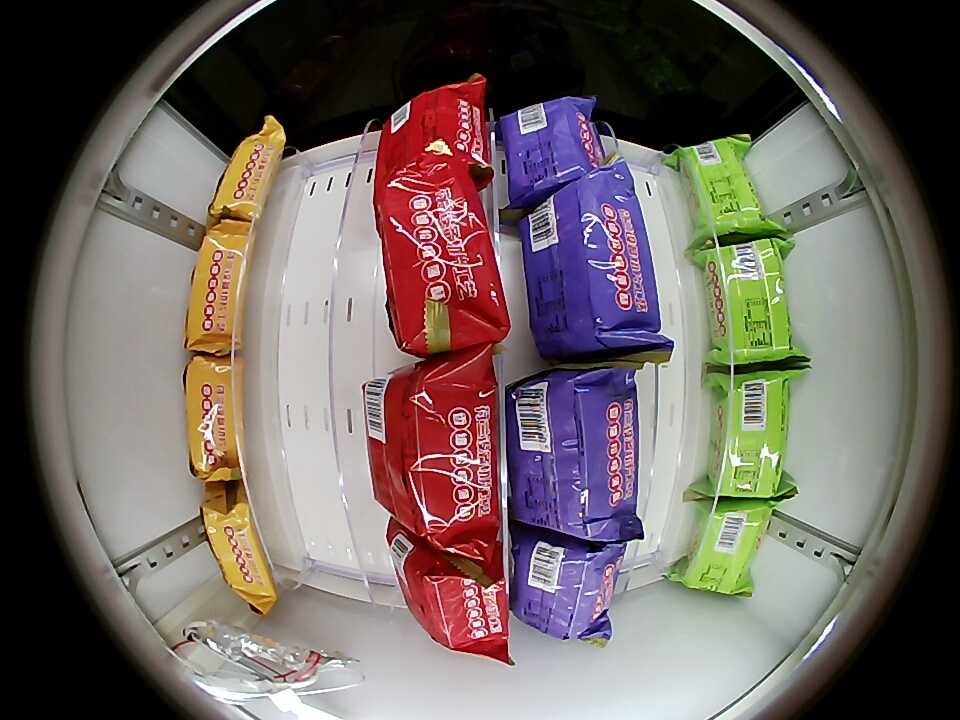kaomo_gali: (184, 224, 257, 353), (200, 490, 277, 606), (207, 126, 286, 224), (184, 356, 245, 482)
kaomo_jiaoyan: (521, 164, 665, 360), (508, 366, 641, 540), (510, 529, 624, 643), (498, 99, 610, 210)
kaomo_shaokao: (375, 139, 509, 354), (369, 354, 501, 547), (391, 529, 510, 657), (376, 85, 491, 192)
kaomo_xiangcon: (699, 241, 793, 367), (706, 372, 789, 499), (677, 138, 768, 241), (682, 498, 771, 595)
